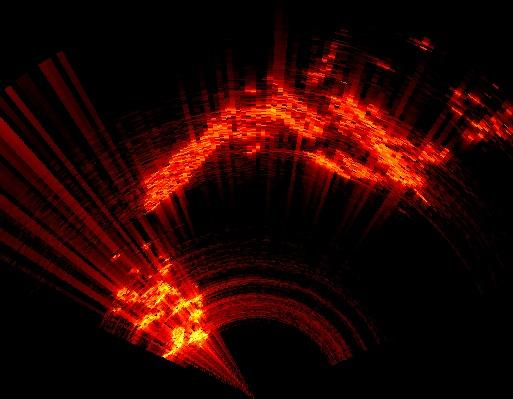shipwreck: (143, 86, 326, 209), (294, 97, 425, 200), (113, 263, 211, 360), (416, 144, 446, 163)
